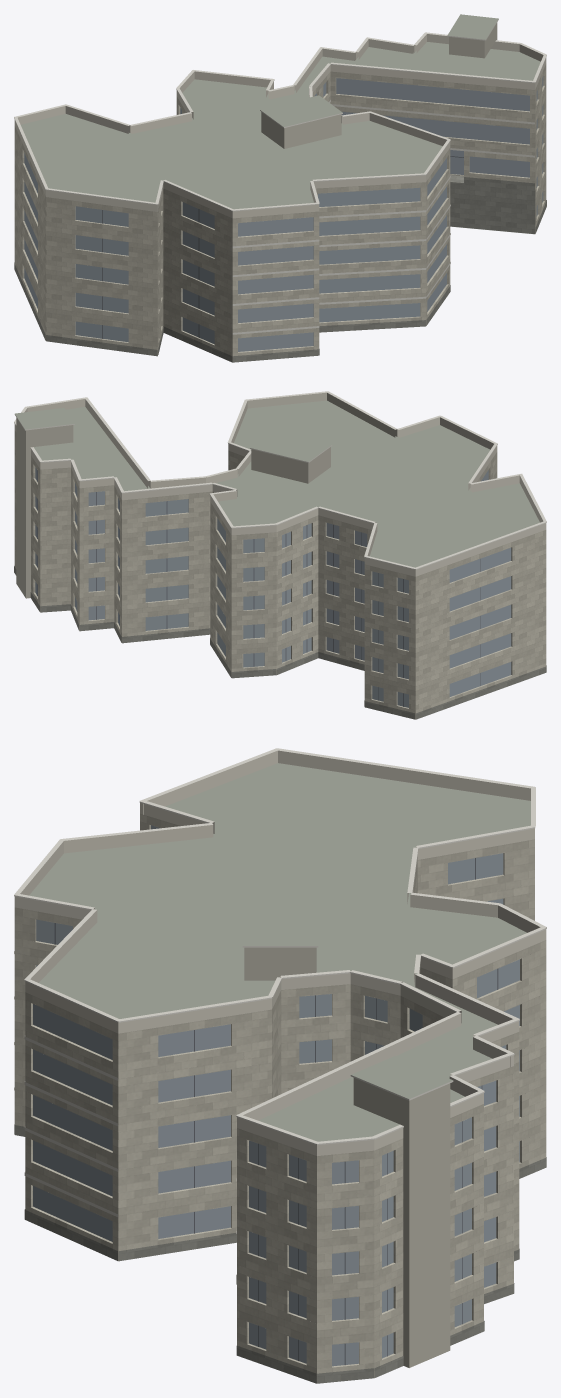
The picture shows the model from 3 angles, top to bottom: view 1: azimuth 30°, elevation 25°; view 2: azimuth 150°, elevation 25°; view 3: azimuth 270°, elevation 25°; orthographic projection. The views are drawn at different scales.
Visible parts, largest first — view 1: music55__wall, music55__roof, music55__glass, music55__parapet, music55__base, music55__trim, music55__wall2; view 2: music55__wall, music55__roof, music55__glass, music55__parapet, music55__wall2, music55__trim, music55__base, music55__frame; view 3: music55__wall, music55__roof, music55__glass, music55__parapet, music55__wall2, music55__trim, music55__base, music55__frame.
Boxes of the visible parts, x1,y1,x2,y2 form: music55__wall: (14,63,546,361); music55__roof: (21,14,540,234); music55__glass: (24,76,543,351); music55__parapet: (14,34,546,218); music55__base: (14,175,546,362); music55__trim: (14,19,546,334); music55__wall2: (261,22,497,176); music55__wall: (14,430,546,719); music55__roof: (15,400,539,567); music55__glass: (35,467,511,707); music55__parapet: (14,392,546,576); music55__wall2: (16,417,330,598); music55__trim: (14,391,546,569); music55__base: (14,566,546,719); music55__frame: (37,470,480,706); music55__wall: (14,814,546,1383); music55__roof: (29,763,530,1261); music55__glass: (33,825,519,1366); music55__parapet: (14,750,546,1155); music55__wall2: (244,947,450,1367); music55__trim: (14,748,546,1233); music55__base: (14,1124,546,1383); music55__frame: (54,827,498,1365).
Bounding box in the file's own units: 67.2 × 21.41 × 38.24.
10 materials, 2 textured.
